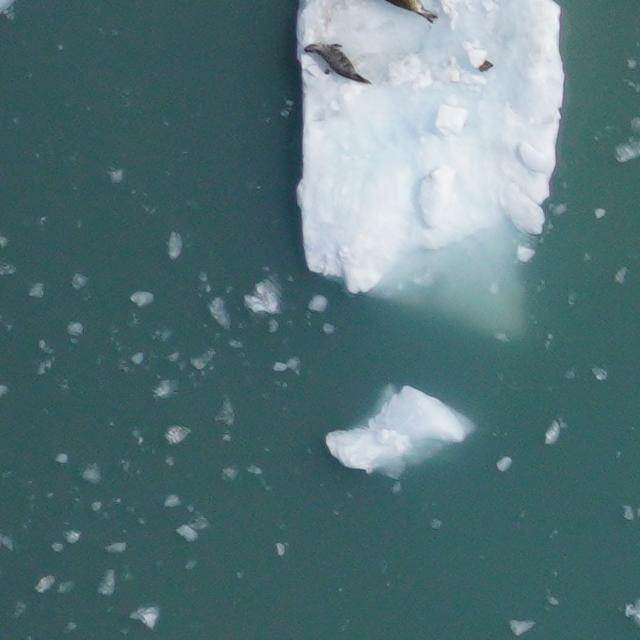seal: (299, 37, 377, 89)
